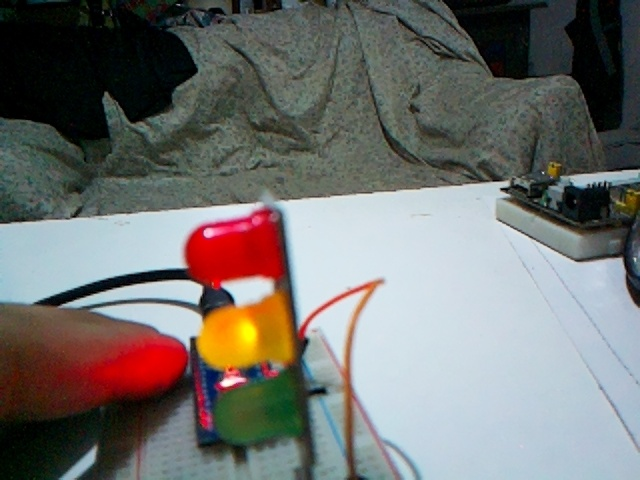traffic_light_yellow: (186, 206, 311, 446)
